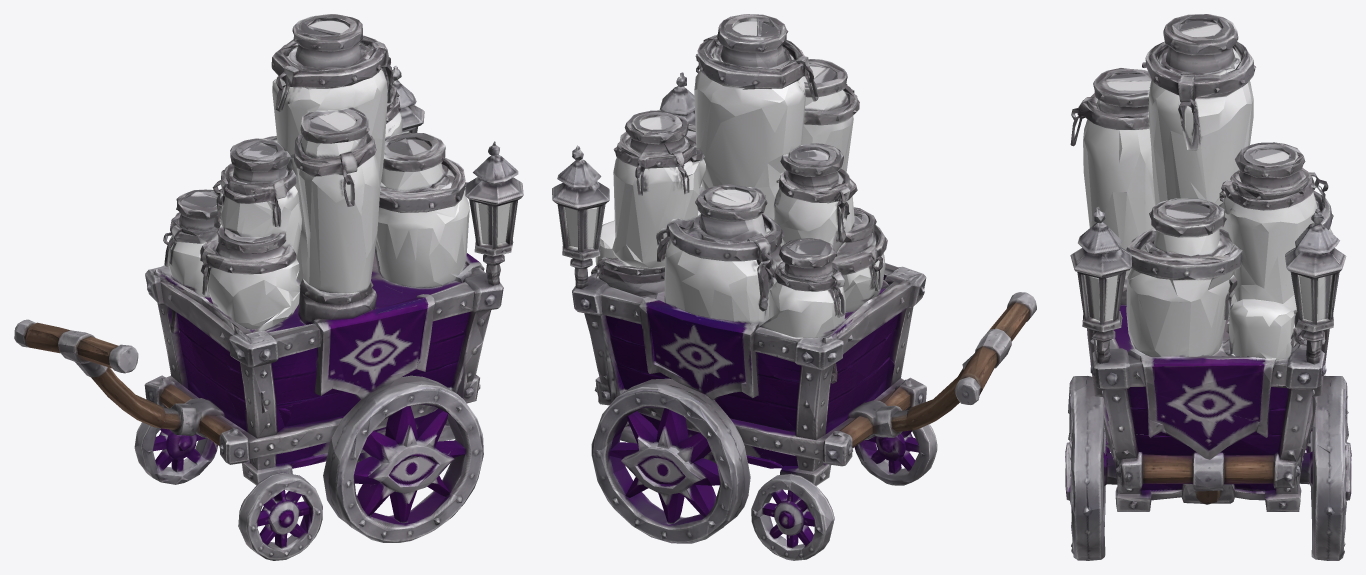
Rendered from cart.glb.
The picture shows the model from 3 angles, left to right: view 1: azimuth 30°, elevation 25°; view 2: azimuth 150°, elevation 25°; view 3: azimuth 270°, elevation 25°; orthographic projection. The views are drawn at different scales.
Parts seen in each view (by area): view 1: Mesh_0; view 2: Mesh_0; view 3: Mesh_0.
Boxes of the visible parts, x1,y1,x2,y2 form: Mesh_0: (14, 14, 523, 560); Mesh_0: (552, 14, 1036, 560); Mesh_0: (1065, 14, 1351, 560).
Bounding box in the file's own units: 1.73 × 1.9 × 0.9595.
1 material, 1 textured.
